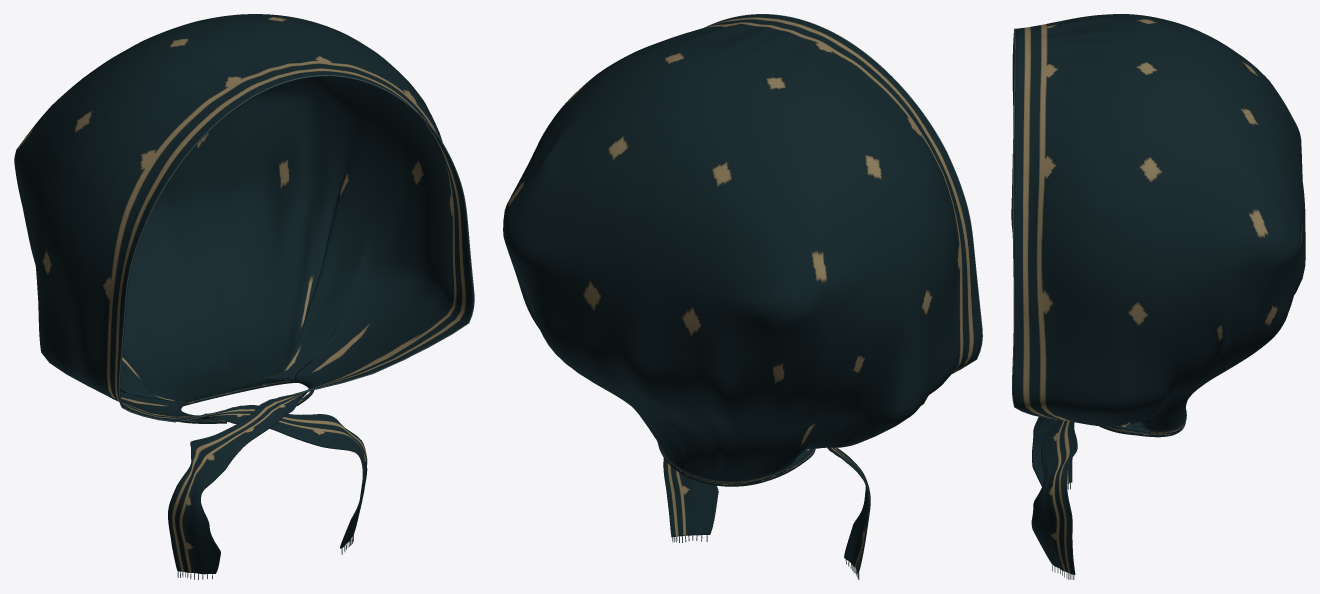
Rendered from Feminine-space-buns-strappy-pashmina249-headgear.glb.
3 views of the same model, side by side, from view 1: azimuth 30°, elevation 25°; view 2: azimuth 150°, elevation 25°; view 3: azimuth 270°, elevation 25° (orthographic). The views are drawn at different scales.
Parts seen in each view (by area): view 1: 226 headgear / Headwear / continuous woven pashmina239, 226 headgear / Headwear / face edge239; view 2: 226 headgear / Headwear / continuous woven pashmina239, 226 headgear / Headwear / face edge239; view 3: 226 headgear / Headwear / continuous woven pashmina239, 226 headgear / Headwear / face edge239.
Part boxes in pixels (x1,y1,x2,y2): 226 headgear / Headwear / continuous woven pashmina239: (14, 14, 473, 574); 226 headgear / Headwear / face edge239: (118, 75, 474, 422); 226 headgear / Headwear / continuous woven pashmina239: (503, 14, 981, 573); 226 headgear / Headwear / face edge239: (704, 14, 982, 373); 226 headgear / Headwear / continuous woven pashmina239: (1011, 14, 1305, 574); 226 headgear / Headwear / face edge239: (1011, 28, 1050, 418).
Size of the model in its own units: 1.05 by 1.36 by 0.7241.
Materials: 3 (1 with a texture image).
